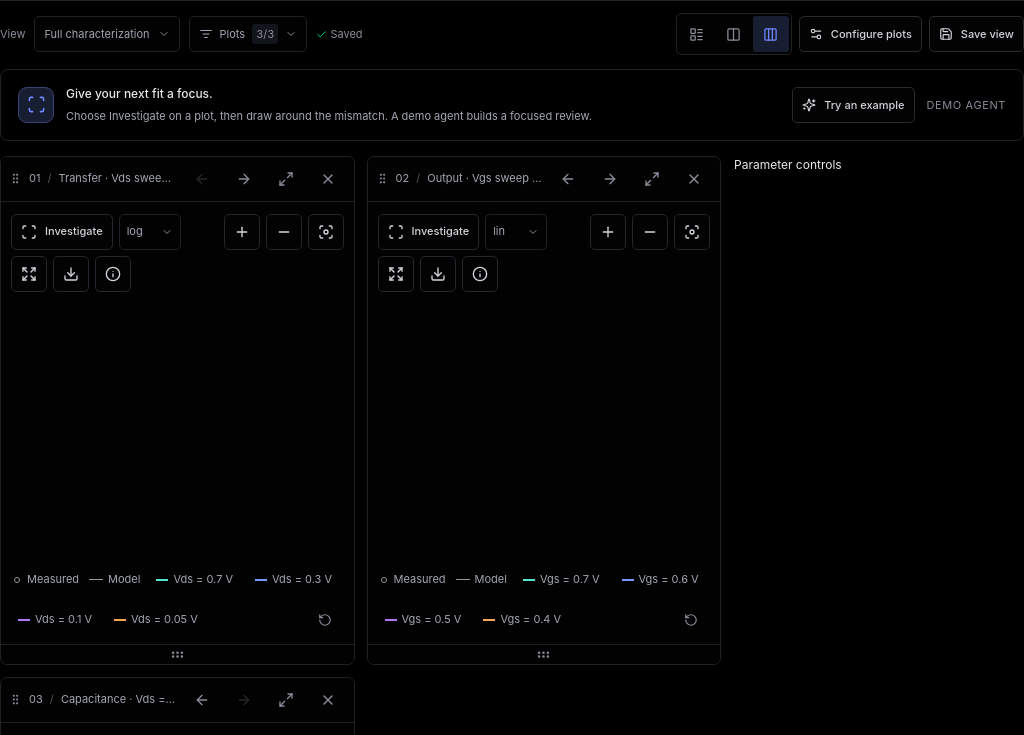
configurable Plotly workbench › validates preset names and recovers malformed layouts
This screenshot has width=1024, height=735.
Click the button "Save view" at {"x": 976, "y": 34}, box [929,16,1023,52]
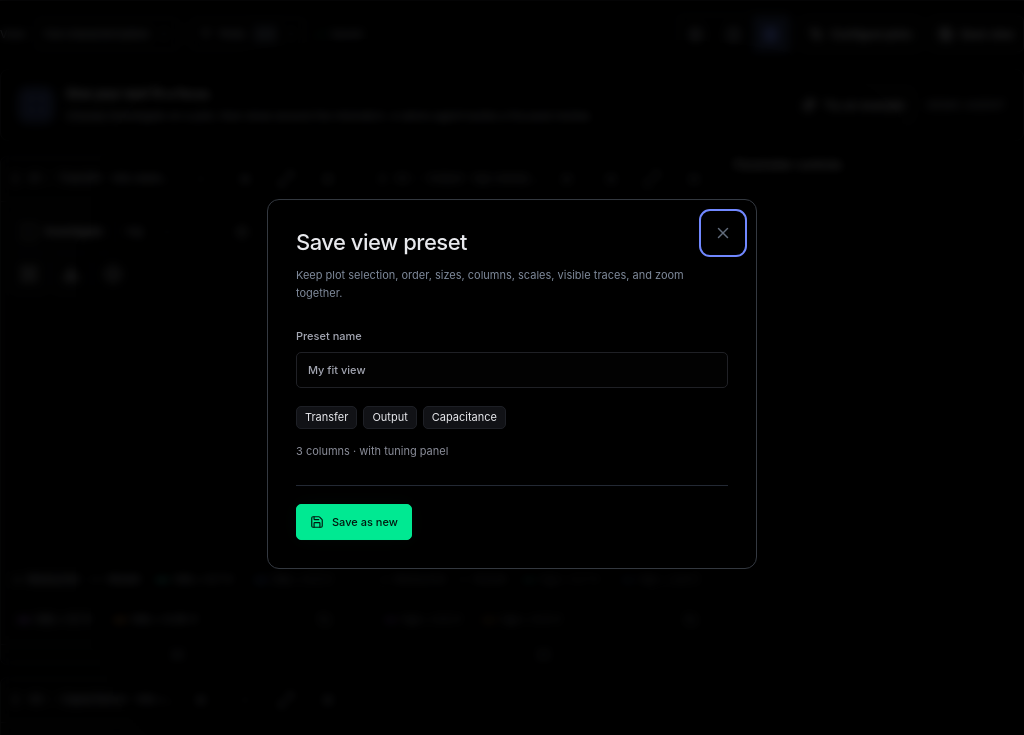
Replace the text in the field labelled "Preset name" with "DC comparison" at {"x": 512, "y": 370}, box [296,352,728,388]
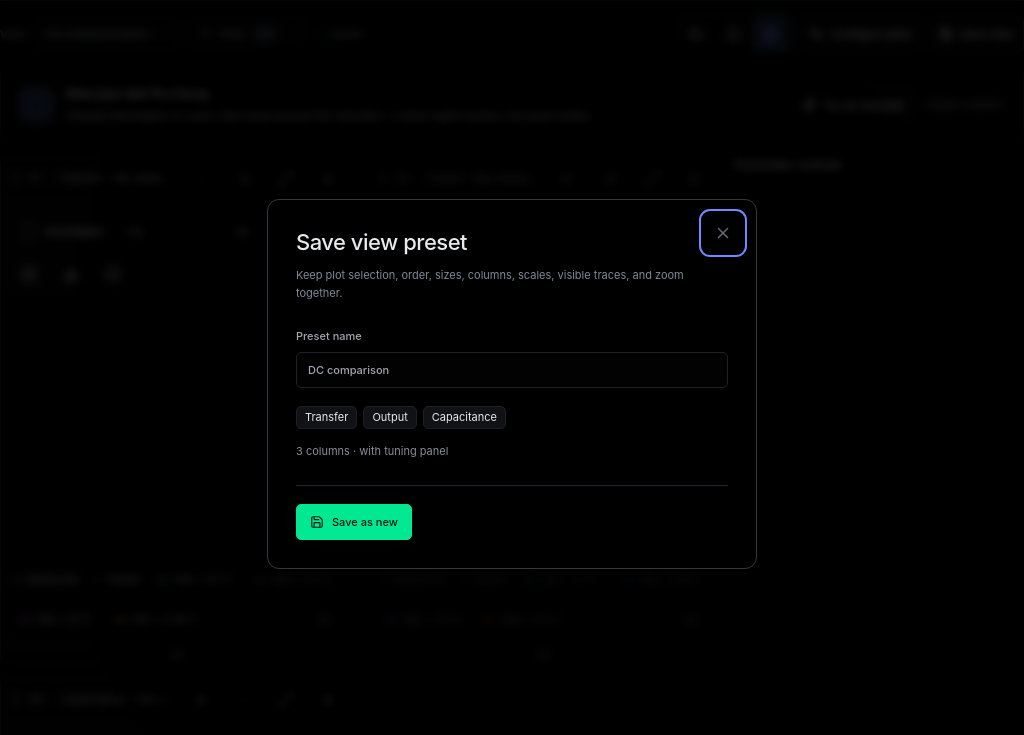
Click the button "Save as new" at {"x": 354, "y": 522}, box [296,504,412,540]
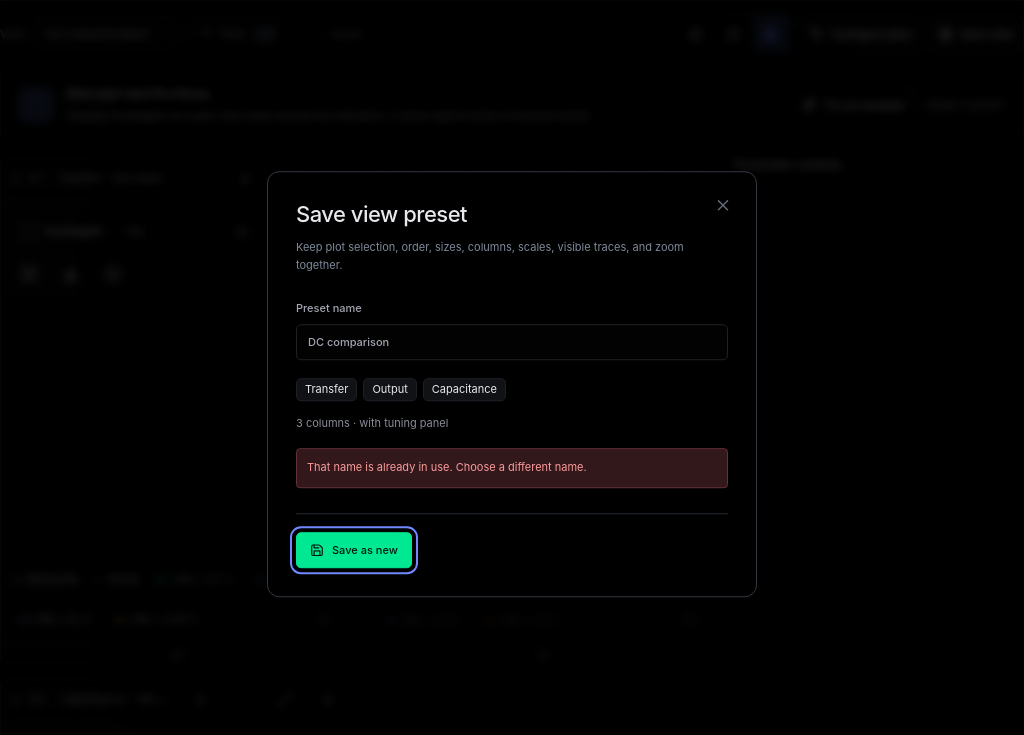
Check: the message shows "already in use", box [307,460,587,474]
